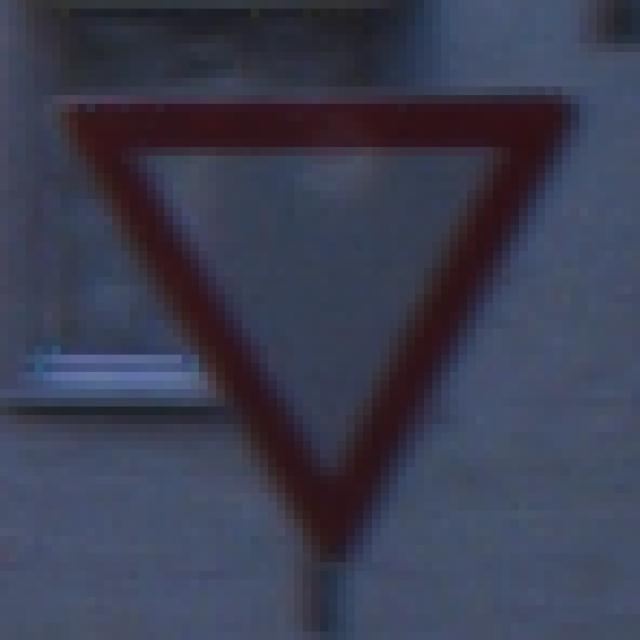Give Way: (53, 53, 589, 589)
